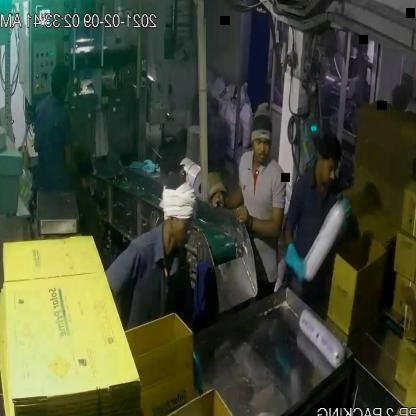glove: (279, 234, 314, 284), (330, 190, 351, 243)
no_glove: (233, 194, 289, 242), (58, 140, 96, 197), (397, 273, 416, 342), (215, 177, 252, 211)
